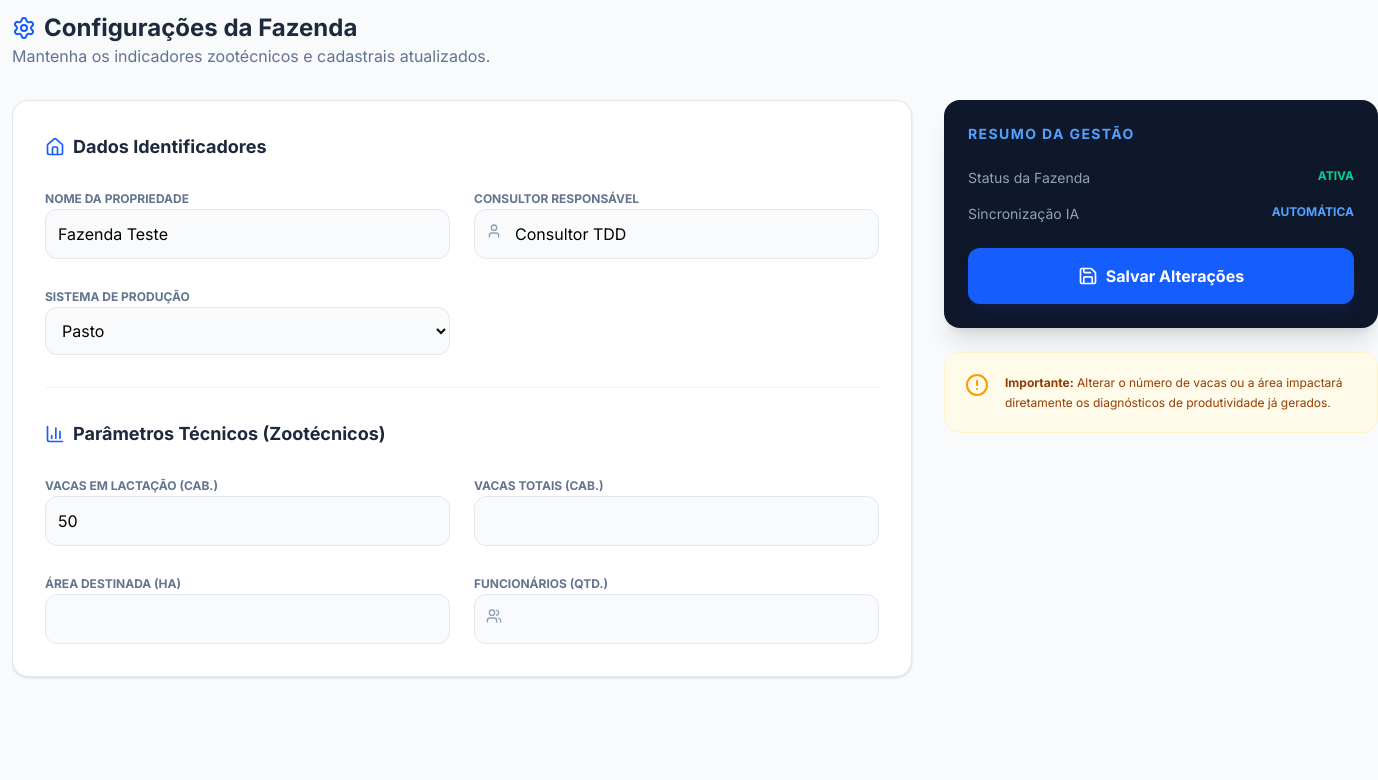
it: ConfiguracoesPage - Gestão de Dados › deve permitir a edição de campos e guardar as alterações no sessionStorage
Replace the text in the field showing "Fazenda Teste" below "Nome da Propriedade" with "Fazenda Atualizada": (248, 234) [45,209,450,259]
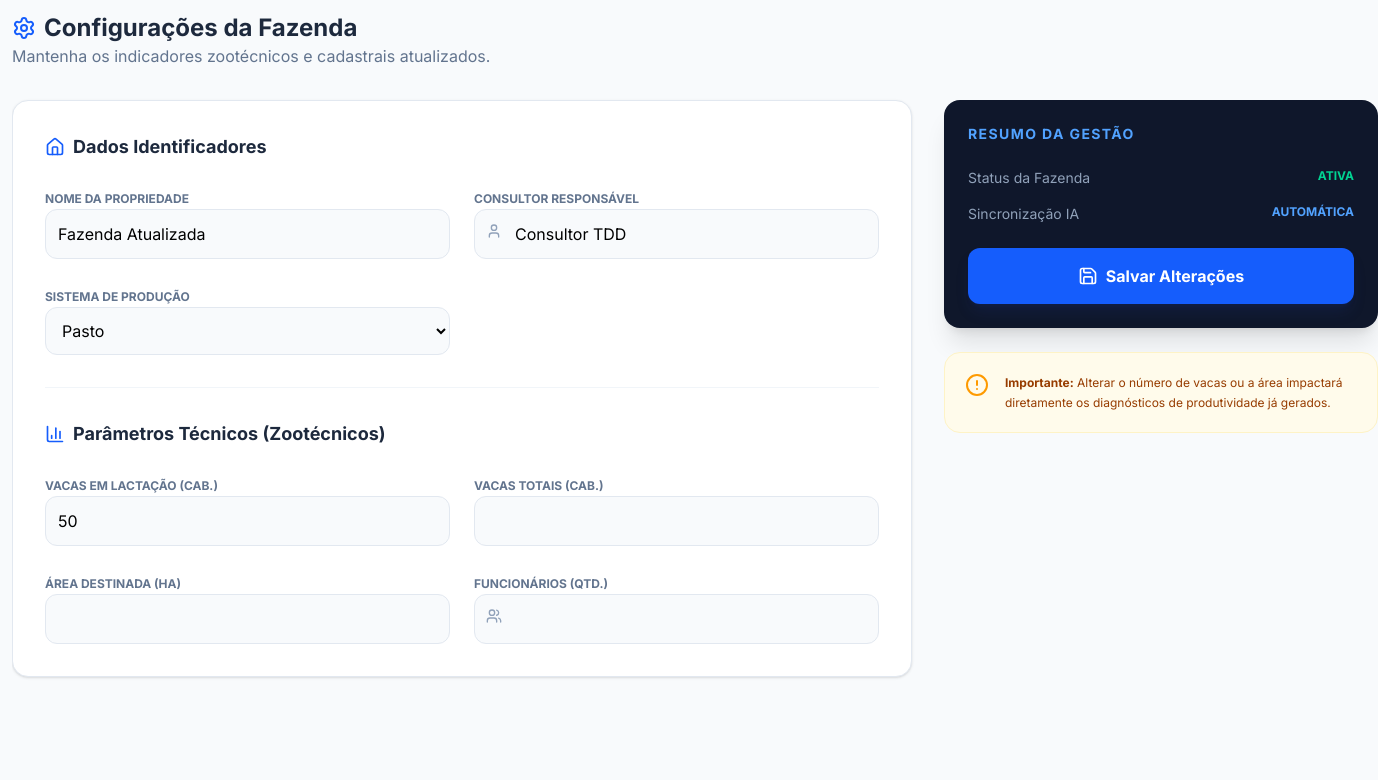
Click the button "Salvar Alterações": (1161, 276) [968,248,1354,304]
Wait 1000 ms
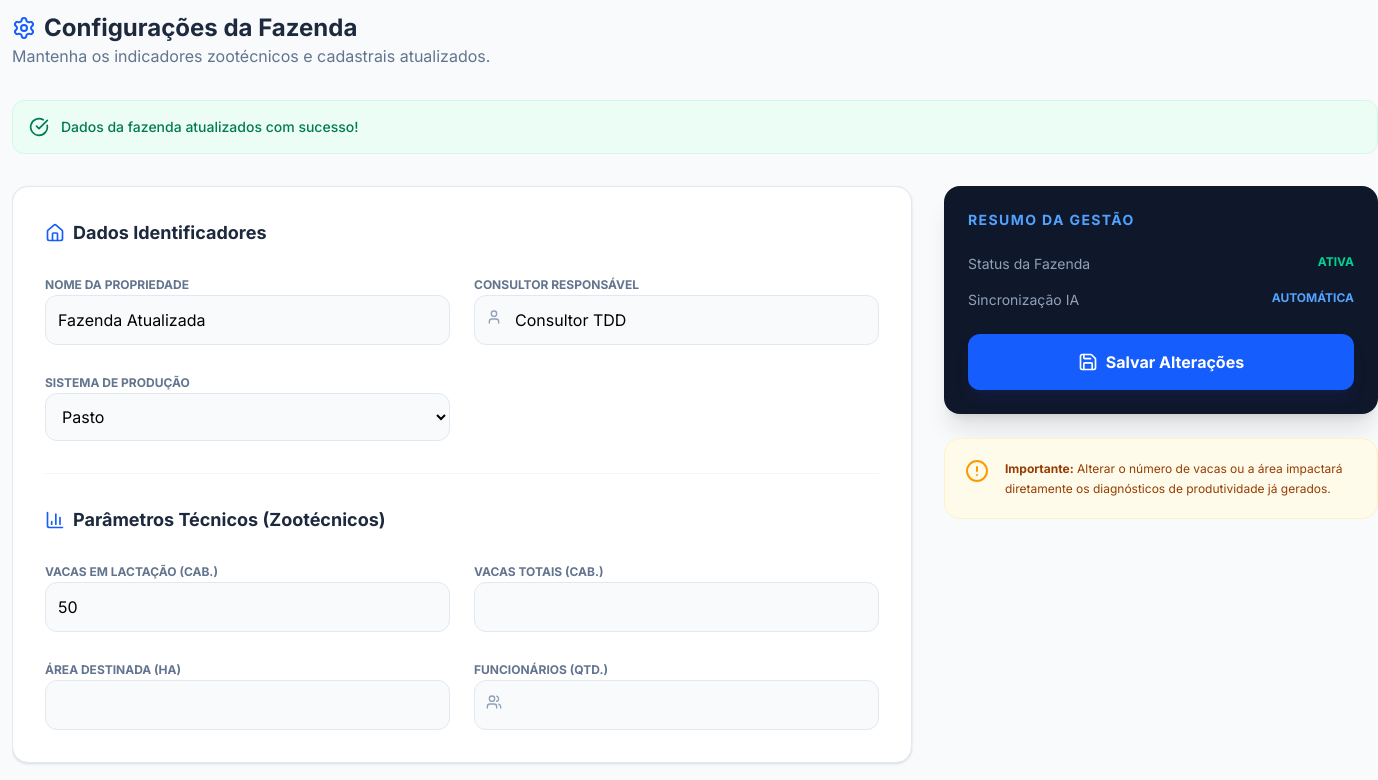
Now the text "Dados da fazenda atualizados com sucesso!" is shown, box [61,117,358,137]
